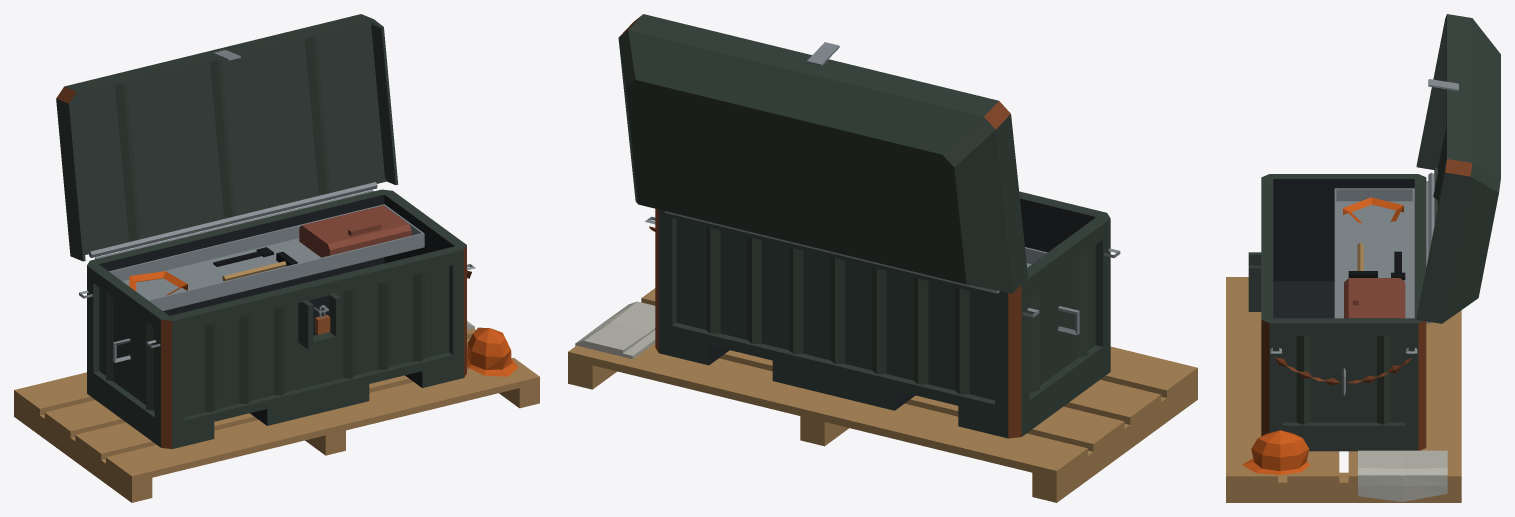
File: site-tool-vault-200e38.glb
3 renders of one model, left to right at view 1: azimuth 30°, elevation 25°; view 2: azimuth 150°, elevation 25°; view 3: azimuth 270°, elevation 25°, orthographic. The views are drawn at different scales.
Parts seen in each view (by area): view 1: vault-body, lid-shell, drill-case-mesh, hat-mesh; view 2: vault-body, lid-shell; view 3: vault-body, lid-shell, drill-case-mesh, hat-mesh.
Boxes of the visible parts, box(x1,y1,x2,y2) form: vault-body: box(14, 182, 539, 502); lid-shell: box(56, 14, 398, 261); drill-case-mesh: box(299, 205, 411, 257); hat-mesh: box(467, 327, 518, 376); vault-body: box(568, 191, 1197, 502); lid-shell: box(618, 14, 1027, 293); vault-body: box(1226, 172, 1461, 502); lid-shell: box(1416, 14, 1500, 323); drill-case-mesh: box(1344, 278, 1405, 318); hat-mesh: box(1242, 430, 1309, 475).
Bounding box in the file's own units: 2.01 × 1.51 × 1.17.
